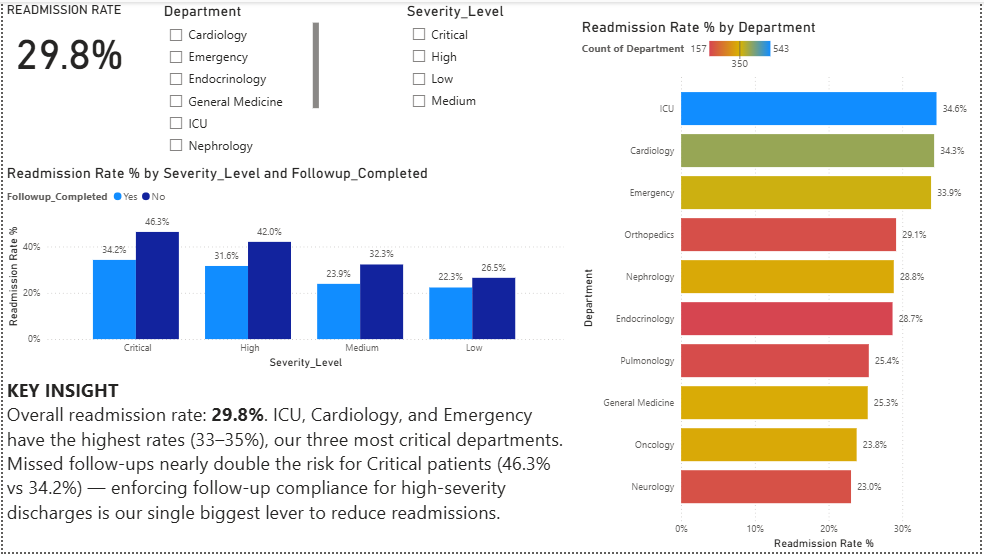

The page's visual inventory and layout, read from the dashboard file:
{"tool":"powerbi","page":{"name":"Readmission Analysis","canvas":[1280,720],"ordinal":0},"visuals":[{"type":"textbox","box":[417.9,0,393.3,43.9],"z":0},{"type":"card","title":"READMISSION RATE","fields":{"Values":["Healthcare_Master.Readmission Rate %"]},"box":[0,0,174.1,105.6],"z":1000},{"type":"clusteredBarChart","fields":{"Category":["Healthcare_Master.Department"],"Y":["Healthcare_Master.Readmission Rate %"]},"box":[752.6,21.1,526.3,700],"z":2000},{"type":"clusteredColumnChart","fields":{"Category":["Healthcare_Master.Severity_Level"],"Y":["Healthcare_Master.Readmission Rate %"],"Series":["Healthcare_Master.Followup_Completed"]},"box":[0,212.6,739.2,272.6],"z":3000},{"type":"textbox","box":[0,485.2,739.2,235.5],"z":4000},{"type":"slicer","title":"Department","fields":{"Values":["Healthcare_Master.Department"]},"box":[205.5,0,212.6,212.6],"z":5000},{"type":"slicer","title":"Severity_Level","fields":{"Values":["Healthcare_Master.Severity_Level"]},"box":[523.8,0,148.4,162.7],"z":6000}]}

Visuals, with their boxes in screenshot pixels (x1, y1, x2, y2), scaled from the page's 1280x720 canvas onto the 984x557 screenshot:
textbox: 321,0,624,34
"READMISSION RATE" card: 0,0,134,82
clusteredBarChart - Healthcare_Master.Department x Healthcare_Master.Readmission Rate %: 579,16,983,556
clusteredColumnChart - Healthcare_Master.Severity_Level x Healthcare_Master.Readmission Rate %: 0,164,568,375
textbox: 0,375,568,556
"Department" slicer: 158,0,321,164
"Severity_Level" slicer: 403,0,517,126
